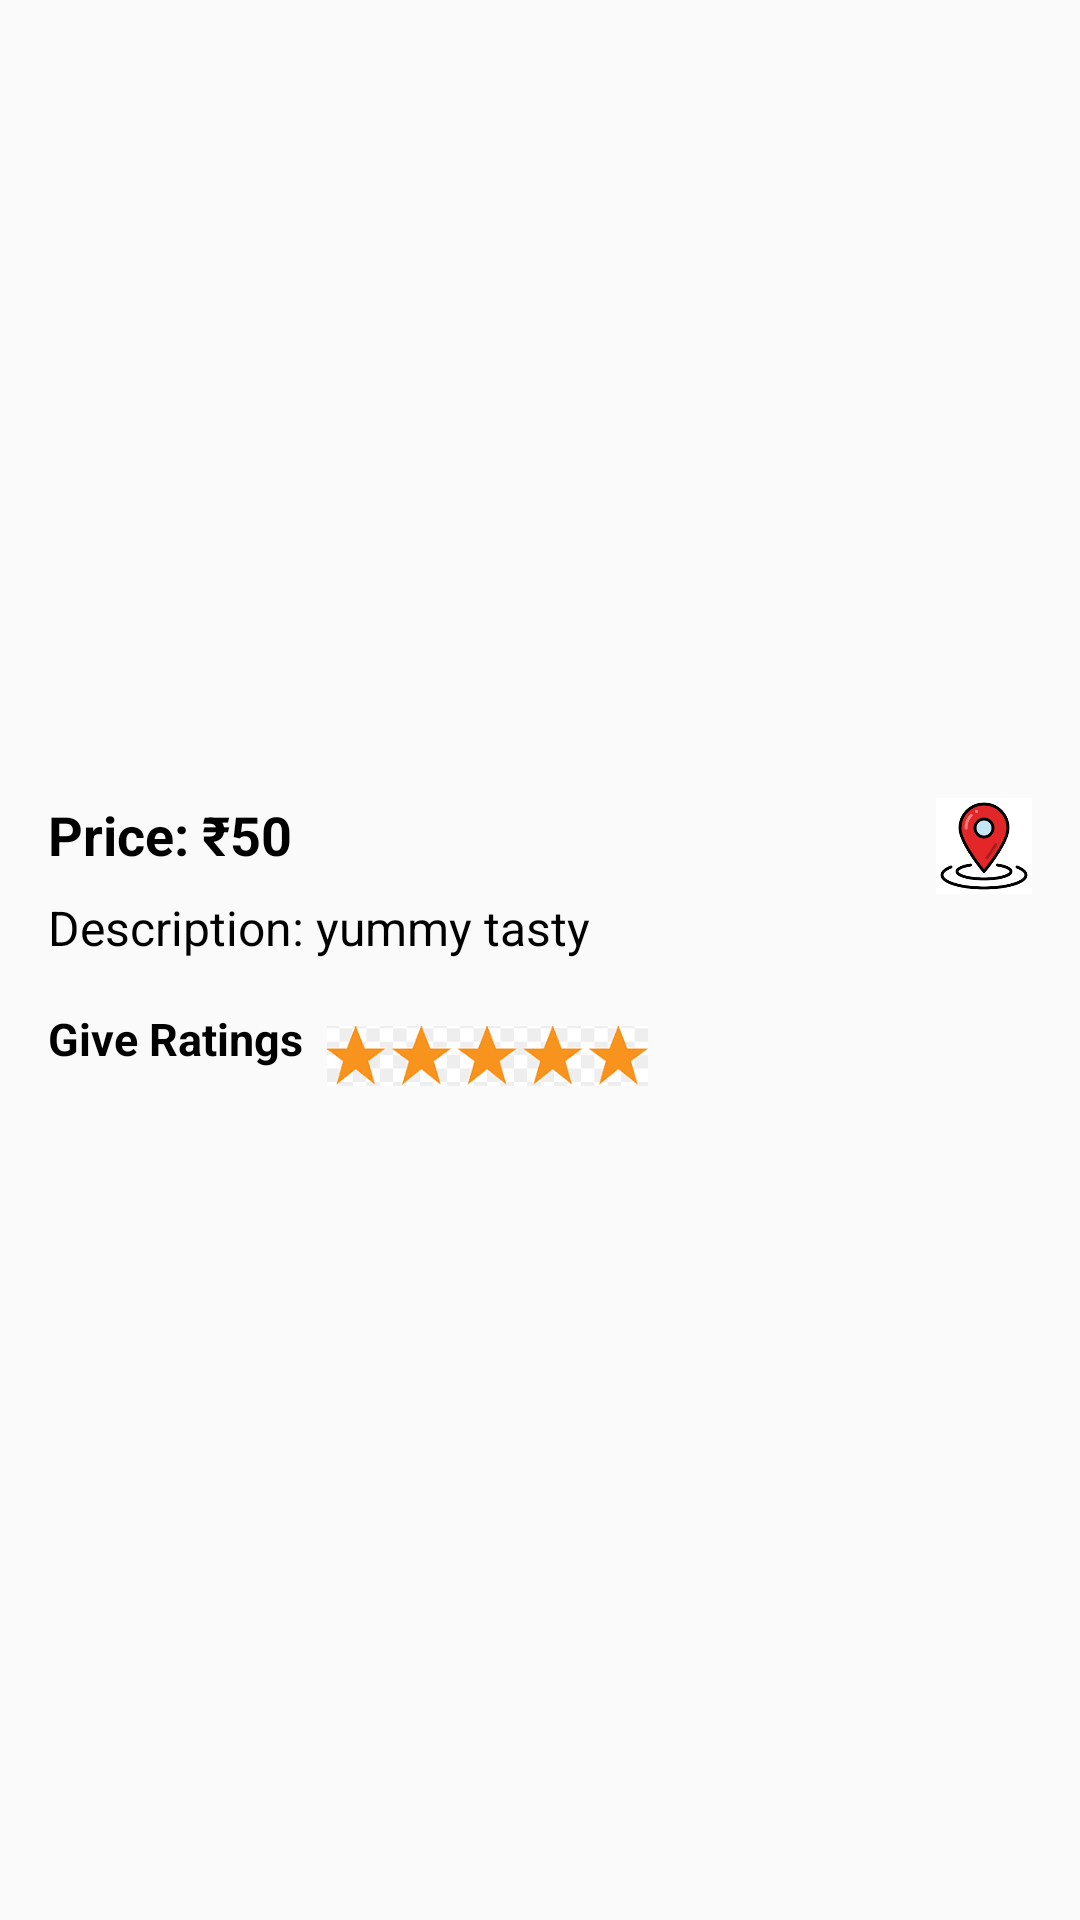

Named icons in this screenshot (1080px×1920px) and their centers, [x,y]:
locationpin: [984,846]
